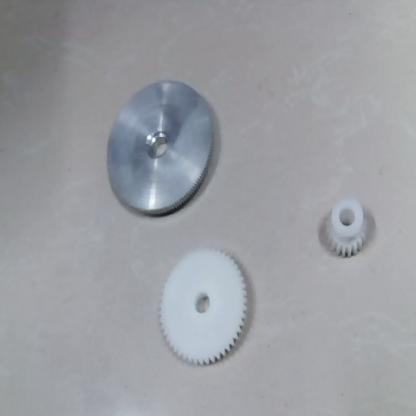FOD: (97, 76, 222, 220), (151, 246, 259, 366), (319, 198, 382, 264)
